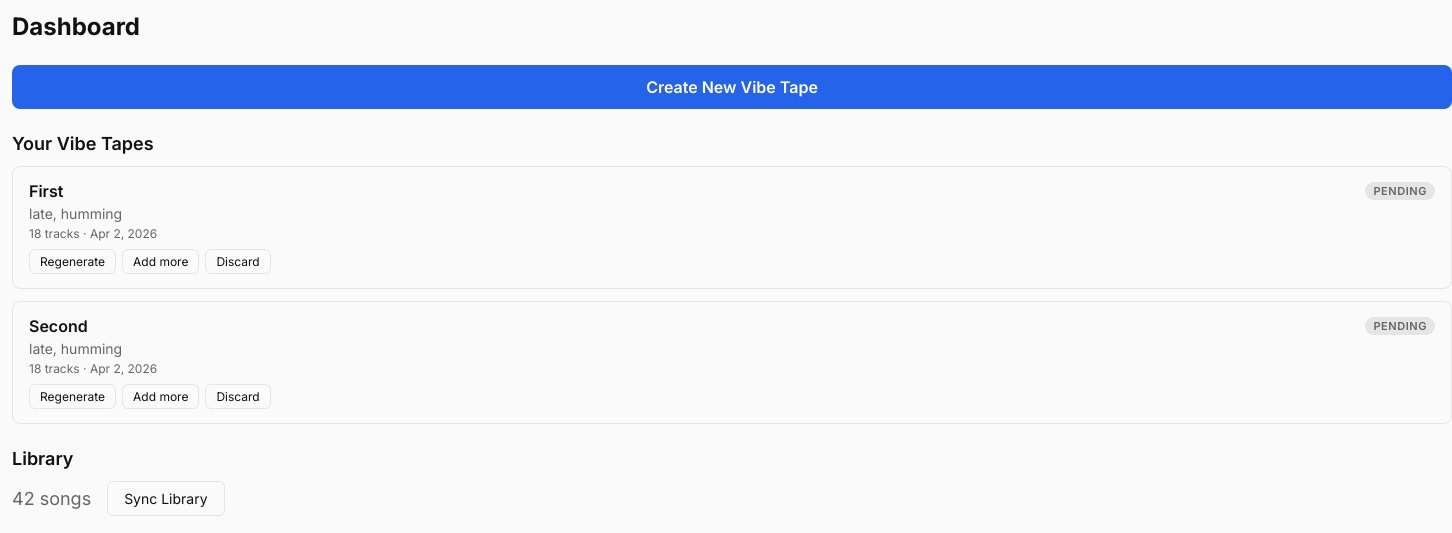
Scenario: DashboardPage › Your Vibe Tapes list › only disables actions on the card whose mutation is in-flight
The image size is (1452, 533).
Expected: the text "First" is shown, [29,181,63,201]
Click the button "Regenerate" below "First" at point(72, 262), box [29,249,116,274]
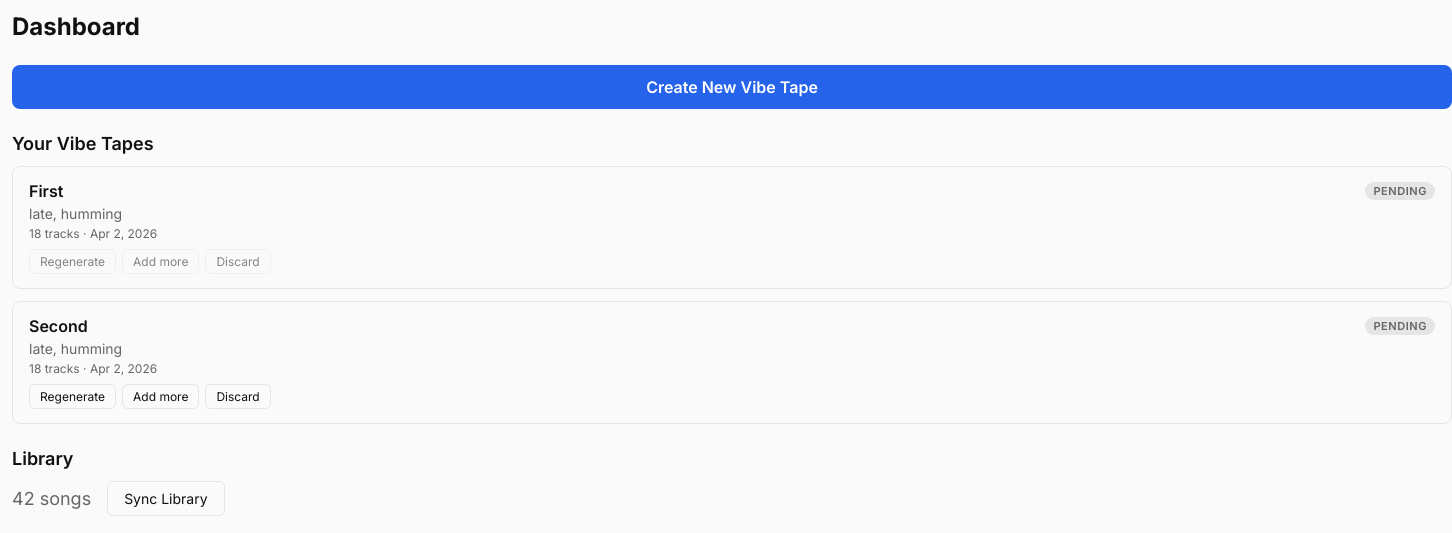
Expected: the button "Regenerate" below "Second" is enabled, [29,384,116,409]
Result: the button "Regenerate" below "First" is disabled at [29,249,116,274]
